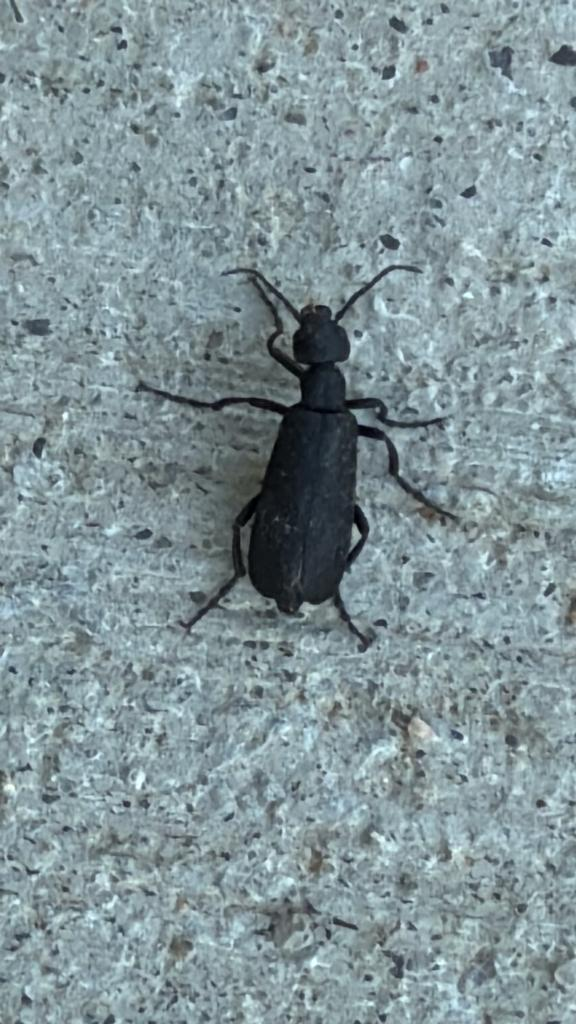blister_beetle: (87, 199, 513, 708)
